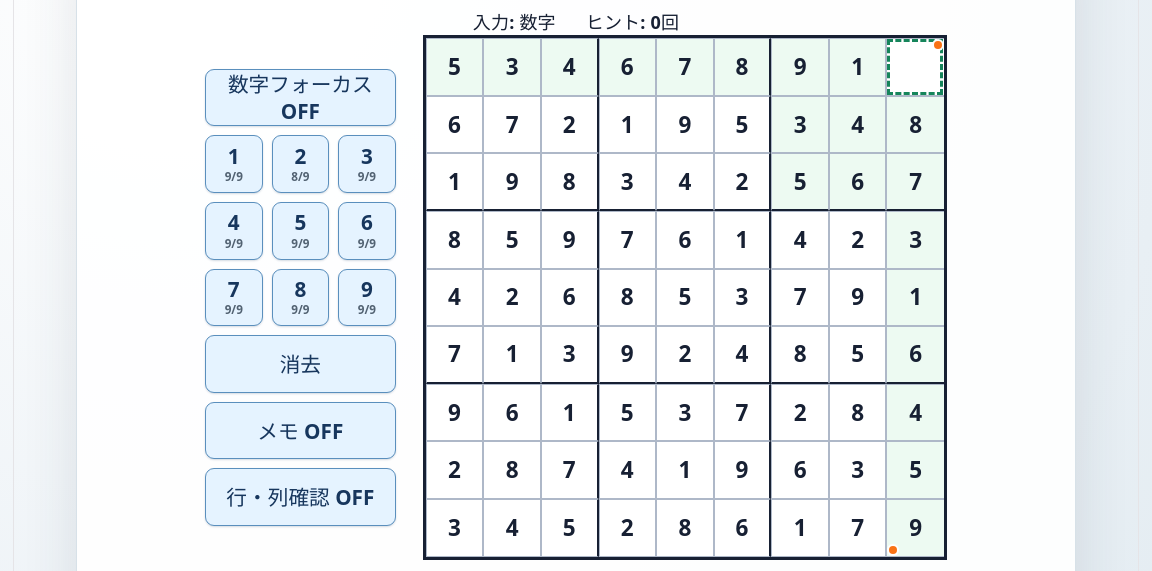
Test case: reviews a near-complete row through the keypad without entering a digit
Check: the table named "数独盤面" is shown, box [423,35,947,560]
Check: the cell with class "review-ready-row" is shown, box [886,38,944,96]
Click the button "行・列確認 OFF" at [300, 497], box [205,468,396,526]
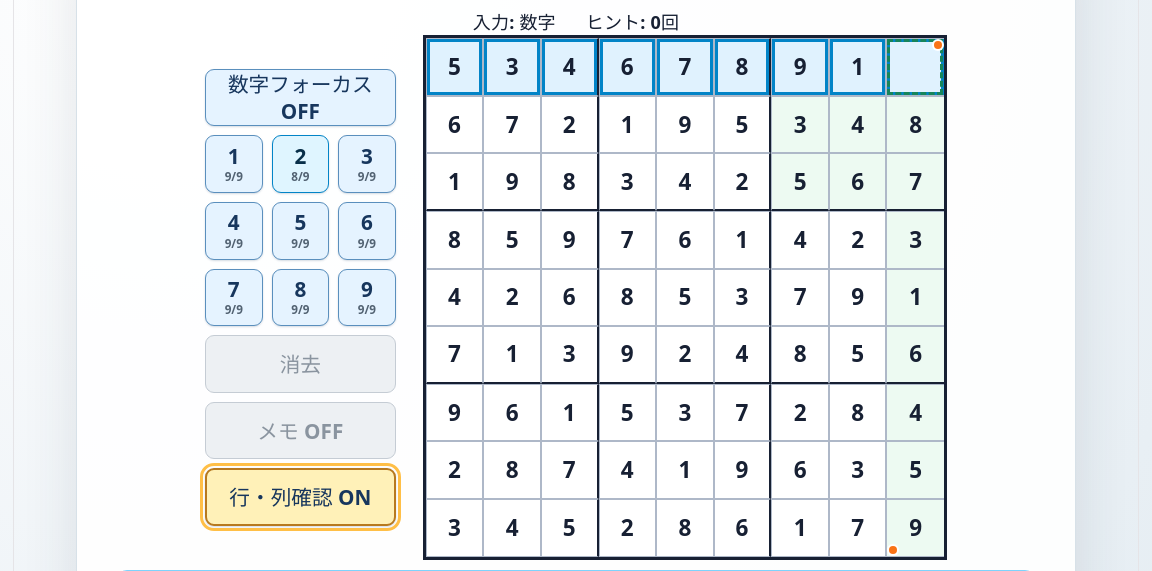
Click the button named "数字 2" at [300, 164], box [272,135,329,193]
(page scrolled)
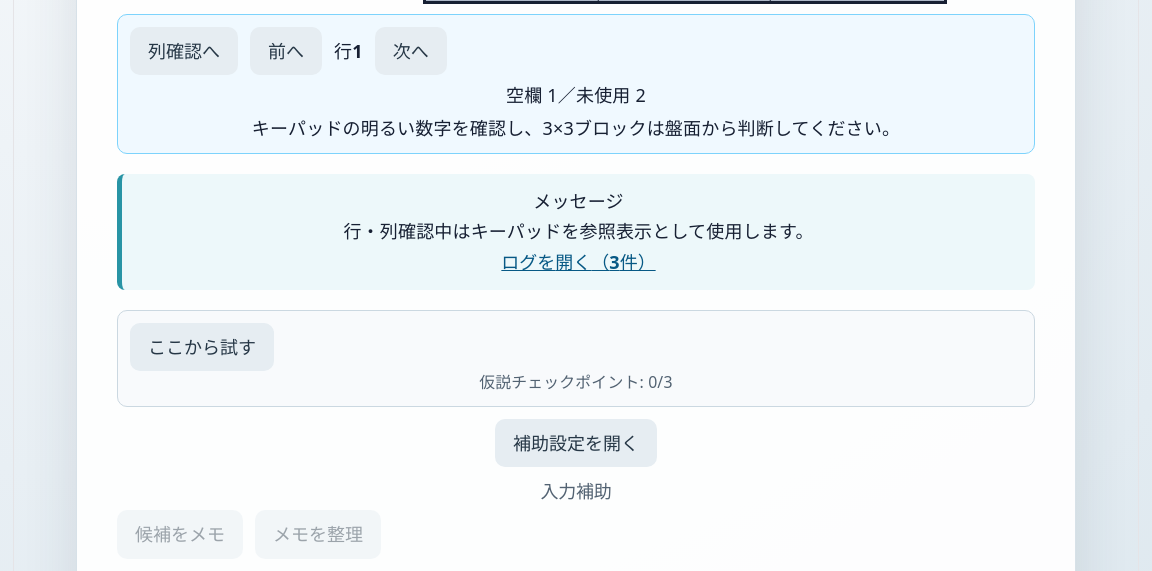
Check: the text "行・列確認中はキーパッドを参照表示として使用します。" is shown, box [343,219,814,243]
